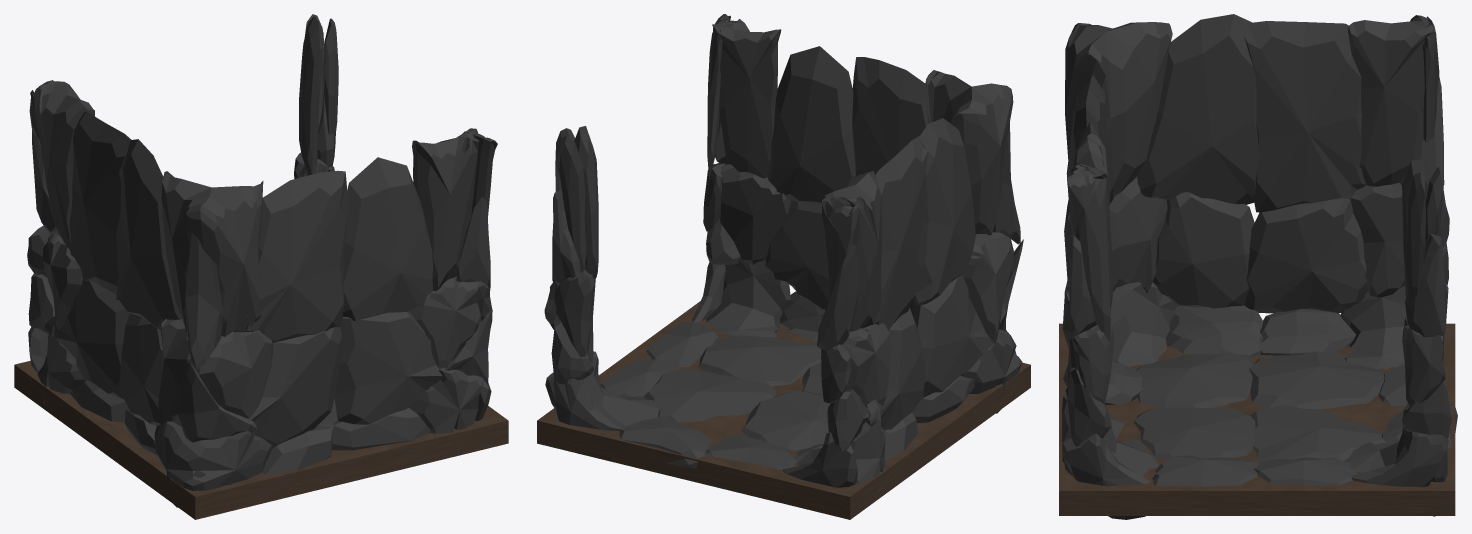
Rendered from Corner.fbx.
The picture shows the model from 3 angles, left to right: view 1: azimuth 30°, elevation 25°; view 2: azimuth 150°, elevation 25°; view 3: azimuth 270°, elevation 25°; orthographic projection. The views are drawn at different scales.
Parts seen in each view (by area): view 1: Corner_Stone_Path, Dirt_Corner; view 2: Corner_Stone_Path, Dirt_Corner; view 3: Corner_Stone_Path, Dirt_Corner.
Part boxes in pixels (<box>): Corner_Stone_Path: <box>27,14,497,507</box>; Dirt_Corner: <box>14,360,508,519</box>; Corner_Stone_Path: <box>544,14,1023,492</box>; Dirt_Corner: <box>537,301,1030,519</box>; Corner_Stone_Path: <box>1062,14,1457,519</box>; Dirt_Corner: <box>1059,323,1455,515</box>.
Bounding box in the file's own units: 101 × 100 × 101.
